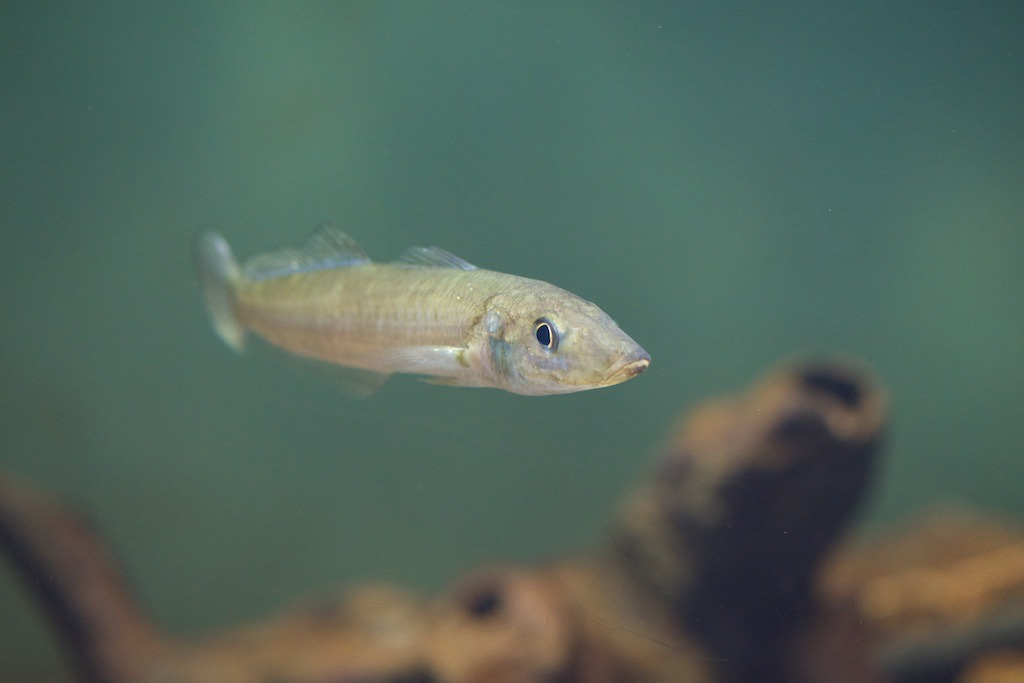kiss: (179, 207, 658, 418)
